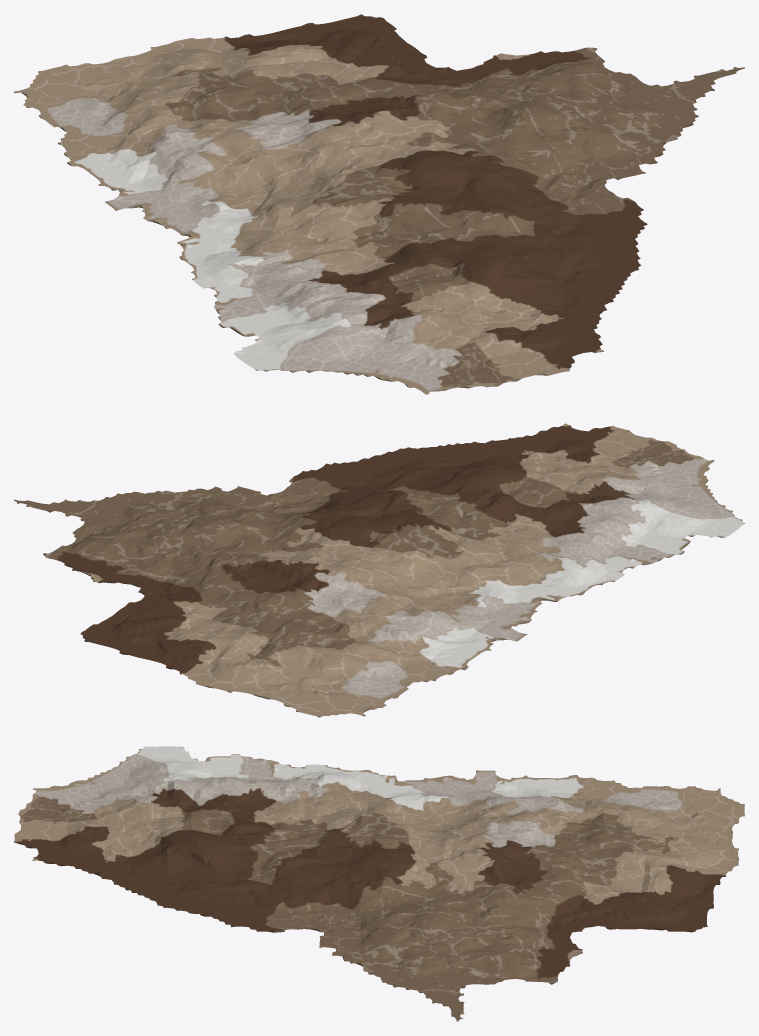
The model's file is mapbrown.glb.
3 renders of one model, top to bottom at view 1: azimuth 30°, elevation 25°; view 2: azimuth 150°, elevation 25°; view 3: azimuth 270°, elevation 25°, orthographic. The views are drawn at different scales.
Visible parts, largest first — view 1: BézierCurve; view 2: BézierCurve; view 3: BézierCurve.
Boxes of the visible parts, x1,y1,x2,y2 form: BézierCurve: (14, 14, 744, 394); BézierCurve: (14, 423, 744, 717); BézierCurve: (14, 746, 744, 1021).
Bounding box in the file's own units: 0.3733 × 0.0157 × 0.4194.
Materials: 1 (1 with a texture image).
